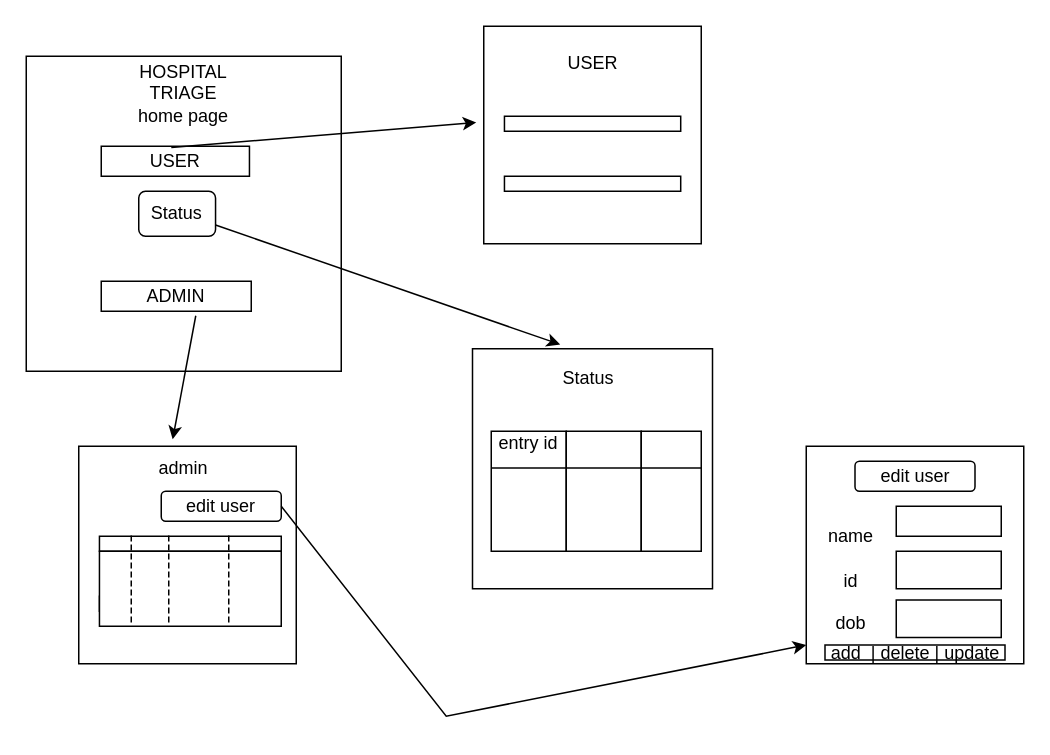
Some shapes in this 1050 by 755 pixel diagram are drawn without their labels. The centre of each missing label's shape, as x and y in pixels:
room nb: the point at 670,490
waiting time: the point at 603,490
